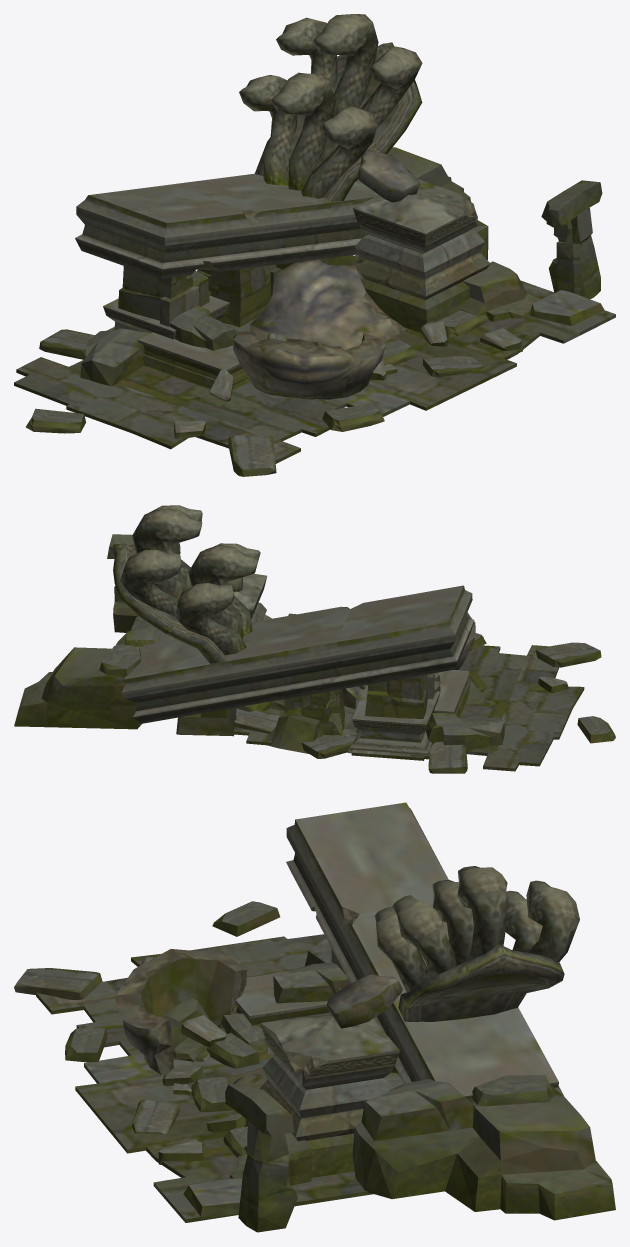
Rendered from S2_Build_XSC064.FBX.
3 views of the same model, one above another, from view 1: azimuth 30°, elevation 25°; view 2: azimuth 150°, elevation 25°; view 3: azimuth 270°, elevation 25° (orthographic). The views are drawn at different scales.
Parts seen in each view (by area): view 1: S2_Build_XSC064; view 2: S2_Build_XSC064; view 3: S2_Build_XSC064.
Part boxes in pixels (x1,y1,x2,y2): S2_Build_XSC064: [14, 14, 615, 476]; S2_Build_XSC064: [14, 505, 615, 773]; S2_Build_XSC064: [14, 802, 615, 1232].
Size of the model in its own units: 430 by 175 by 337.
